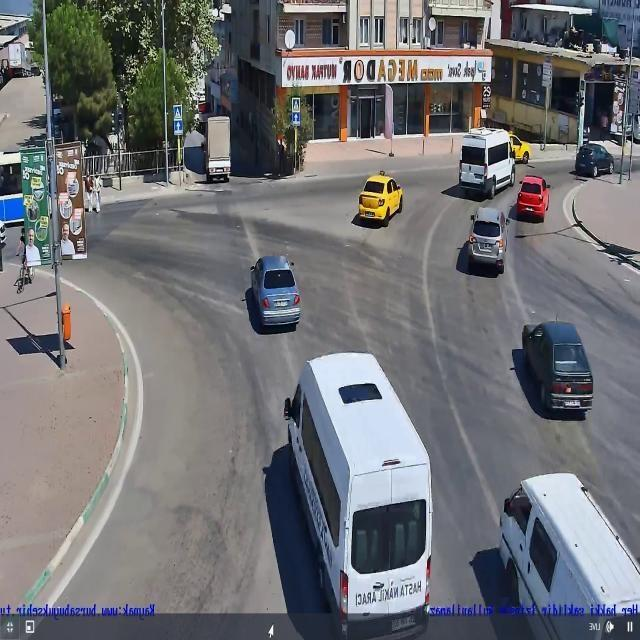Car: (520, 320, 598, 414), (250, 255, 300, 331), (356, 170, 405, 228), (470, 206, 510, 274), (514, 174, 554, 222), (574, 143, 618, 178), (510, 130, 530, 164), (0, 214, 7, 245)
Cycle: (14, 252, 34, 294)
Truck: (200, 113, 234, 181), (8, 42, 33, 78)
Van: (284, 350, 433, 640), (494, 471, 640, 640), (457, 124, 516, 199)
